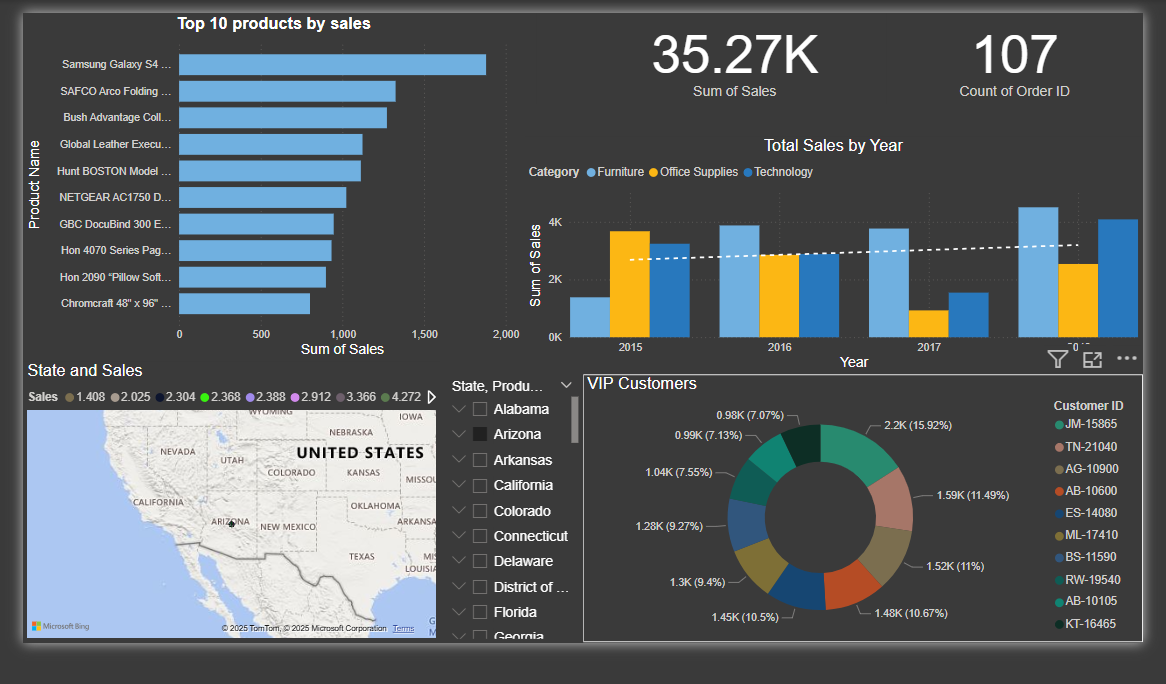

Layout of this report page (visuals, bound fields, positions):
{"tool":"powerbi","page":{"name":"Page 1","canvas":[1280,720],"ordinal":0},"visuals":[{"type":"clusteredColumnChart","title":"Total Sales by Year","fields":{"Category":["train.Year"],"Y":["Sum(train.Sales)"],"Series":["train.Category"]},"box":[573.3,141.7,706.7,271.7],"z":0},{"type":"clusteredBarChart","title":"Top 10 products by sales","fields":{"Category":["train.Product Name"],"Y":["Sum(train.Sales)"]},"box":[0,1.4,572.9,397.1],"z":1000},{"type":"map","fields":{"Category":["train.State","train.Region"],"Series":["train.Sales"]},"box":[0,398.6,477.1,321.4],"z":2000},{"type":"donutChart","title":"VIP Customers","fields":{"Category":["train.Customer ID"],"Y":["Sum(train.Sales)"]},"box":[640,413.3,640,306.7],"z":3000},{"type":"card","fields":{"Values":["Sum(train.Sales)"]},"box":[587.1,0,452.9,104.3],"z":4000},{"type":"card","fields":{"Values":["Count(train.Order ID)","select"]},"box":[987.1,0,292.9,104.3],"z":5000},{"type":"slicer","fields":{"Values":["train.State","train.Product Name","train.Region","train.Customer ID"]},"box":[477.1,412.9,162.9,307.1],"z":5001}]}

Visuals, with their boxes on the page's 1280x720 design canvas (x1, y1, x2, y2). These are canvas units, not pixel positions in the 1166x684 screenshot, which may show the page scaled, cropped or inside an application window:
"Total Sales by Year" clusteredColumnChart: detection(573, 142, 1280, 413)
"Top 10 products by sales" clusteredBarChart: detection(0, 1, 573, 398)
map - train.State x train.Region: detection(0, 399, 477, 720)
"VIP Customers" donutChart: detection(640, 413, 1280, 720)
card - Sum(train.Sales): detection(587, 0, 1040, 104)
card - Count(train.Order ID) x select: detection(987, 0, 1280, 104)
slicer - train.State x train.Product Name: detection(477, 413, 640, 720)
